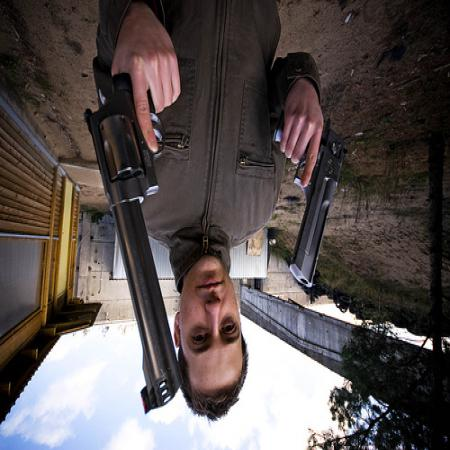Pistol: (81, 67, 181, 416), (276, 110, 346, 292)
